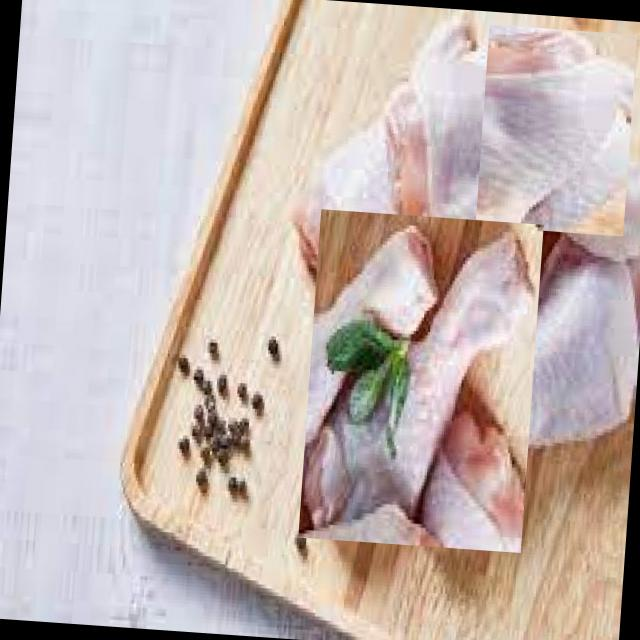chicken: (297, 208, 543, 552), (401, 222, 640, 547), (382, 29, 640, 295), (290, 12, 490, 350)
